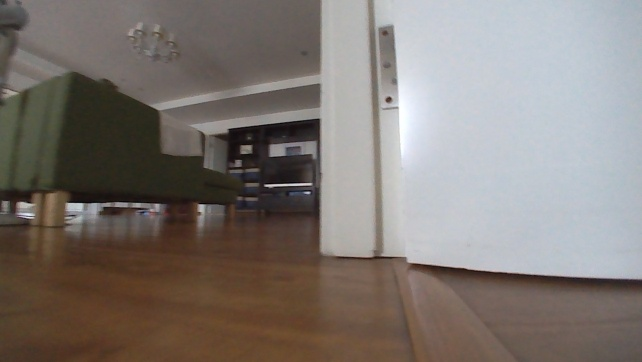sofa: (0, 70, 245, 230)
